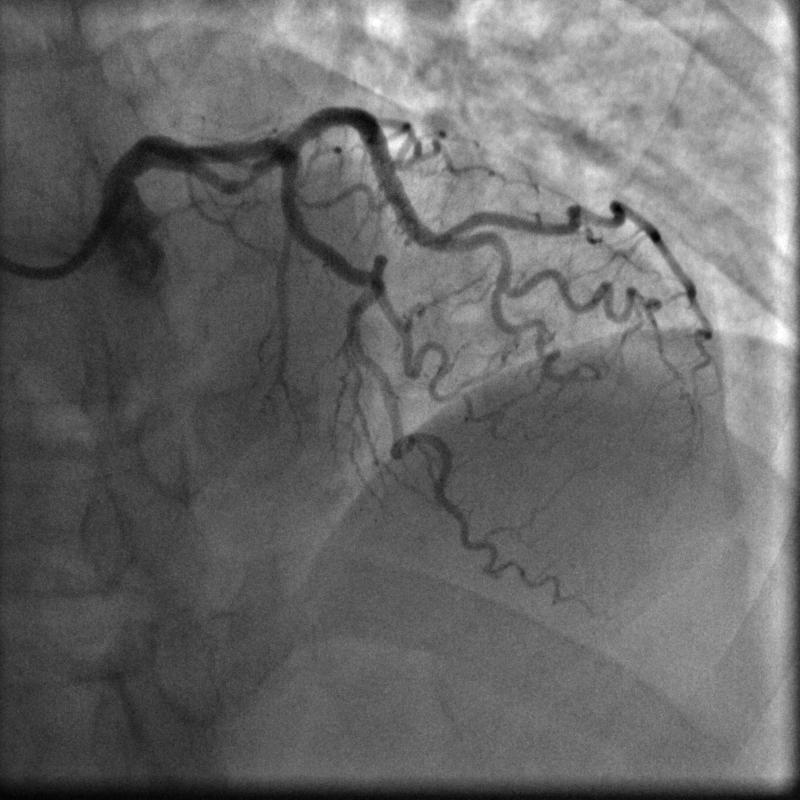Stenosis: (226, 160, 265, 190)
